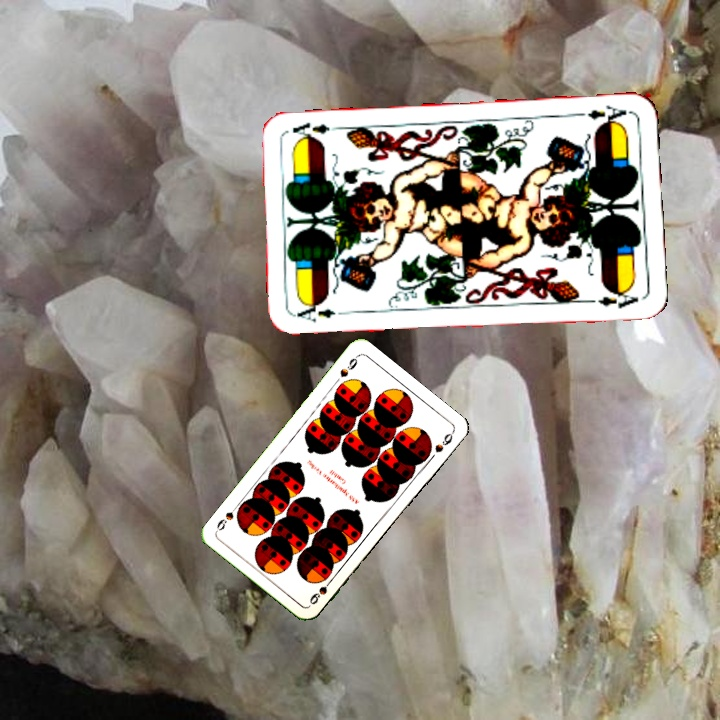EA: (572, 101, 631, 128), (293, 303, 352, 325)
S9: (305, 573, 336, 607), (336, 352, 361, 380)
